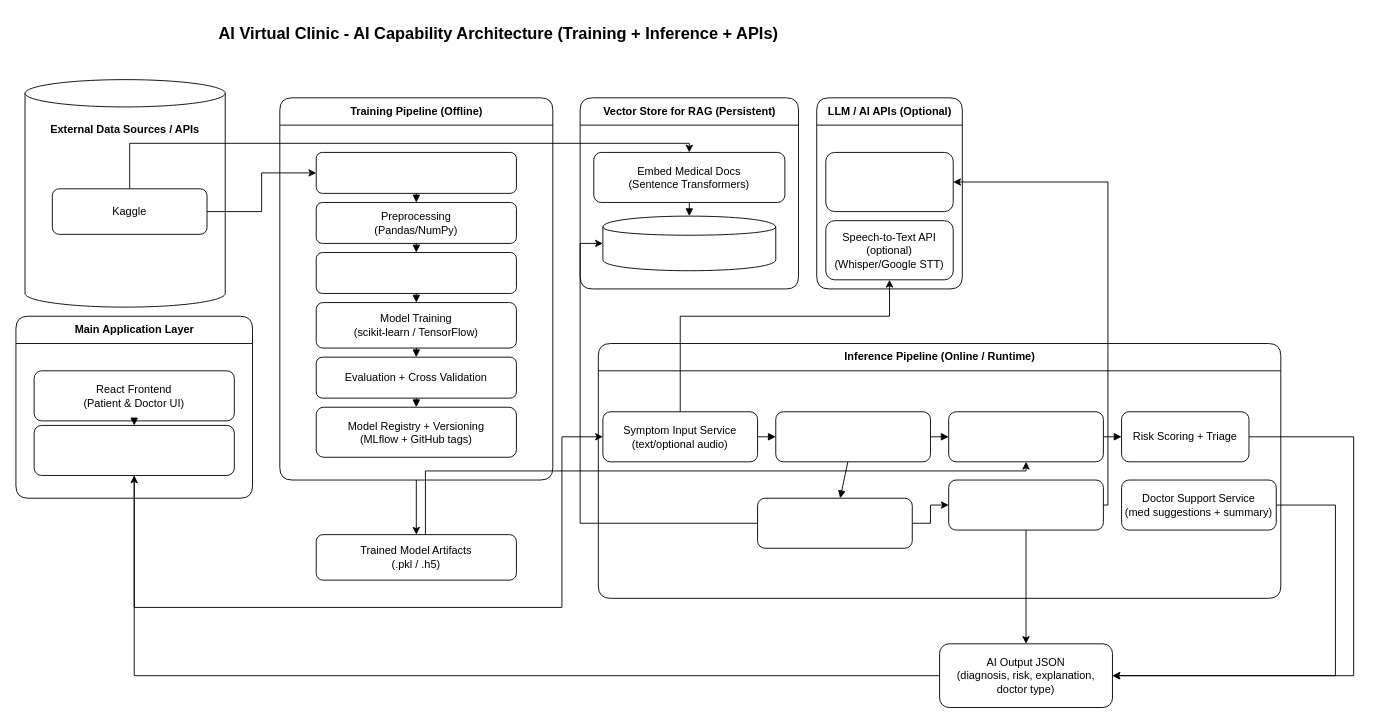
Some shapes in this 1377 by 723 pixel diagram are drawn without their labels. The centre of each missing label's shape, as x and y in pixels:
Backend API Gateway (Flask/FastAPI + JWT): (133,450)
Data Ingestion (Python): (415,172)
Diagnosis Prediction (load trained model): (1025,436)
Feature Engineering: (415,272)
LLM Explanation Generator (LLM + context): (1025,504)
LLM Provider API (OpenAI/Gemini/Llama): (889,182)
NLP / Symptom Extraction (spaCy/BioBERT): (852,436)
RAG Retrieval (query vector DB): (834,522)
Vector Database (FAISS / Chroma / Pinecone): (689,243)
